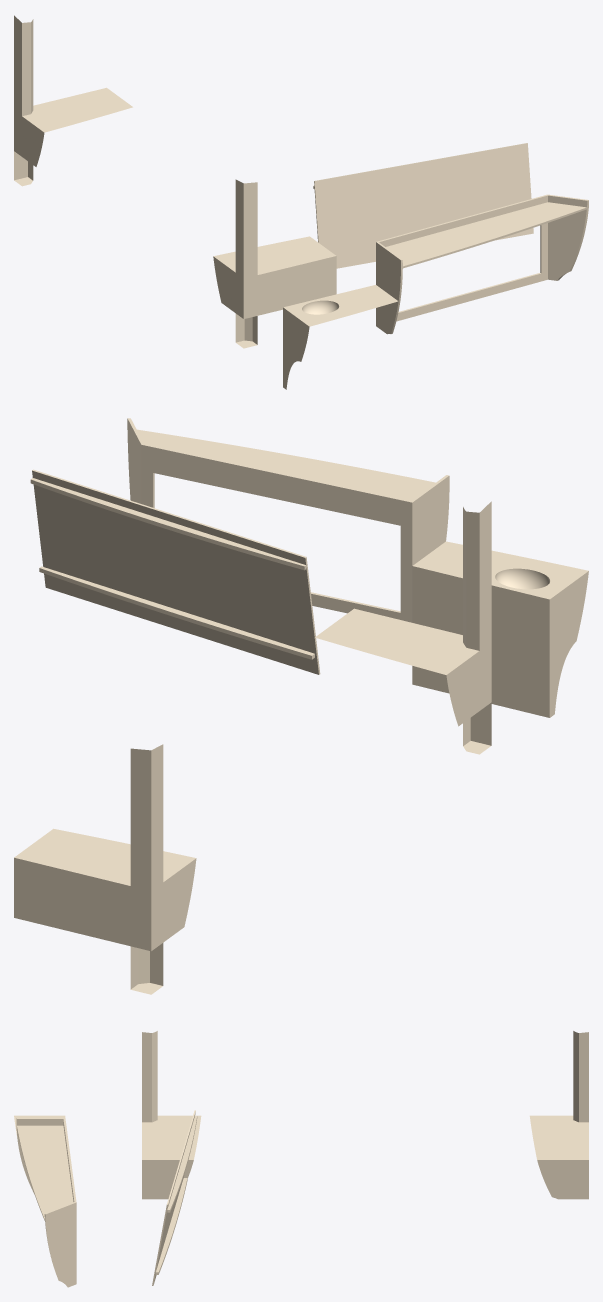
File: OUTFITTING_INTERIOR__galley, workbench, shelving, etc.__CABINETS__cabinet surfaces.glb
The picture shows the model from 3 angles, top to bottom: view 1: azimuth 30°, elevation 25°; view 2: azimuth 150°, elevation 25°; view 3: azimuth 270°, elevation 25°; orthographic projection. The views are drawn at different scales.
Parts seen in each view (by area): view 1: cabinet surfaces; view 2: cabinet surfaces; view 3: cabinet surfaces.
Part boxes in pixels (x1=…): cabinet surfaces: x1=14, y1=15, x2=588, y2=389; cabinet surfaces: x1=14, y1=418, x2=588, y2=994; cabinet surfaces: x1=14, y1=1031, x2=588, y2=1287.
Size of the model in its own units: 2.96 by 1.67 by 5.1.
